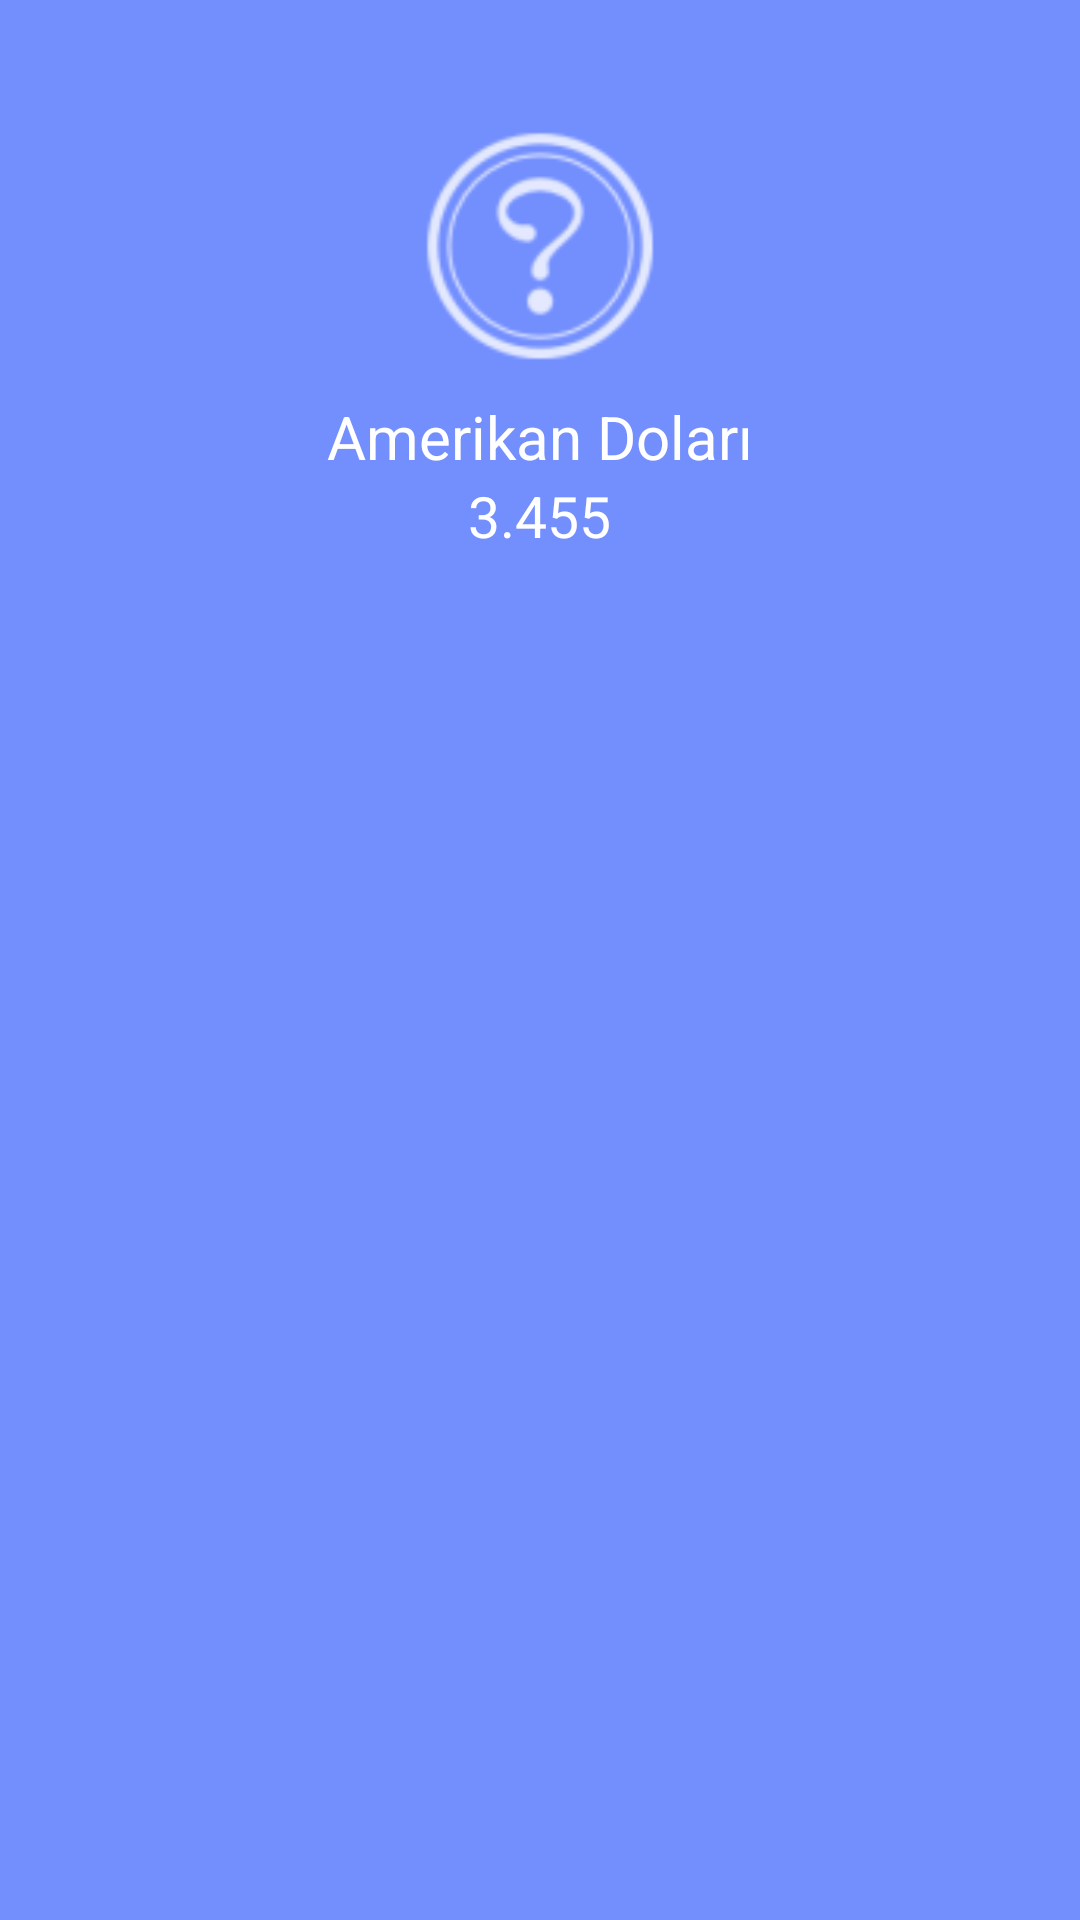

Screen size 1080×1920. Icon name, then its box in pixels as (x1, y1, x2, y2):
question mark: (427, 133, 653, 359)
